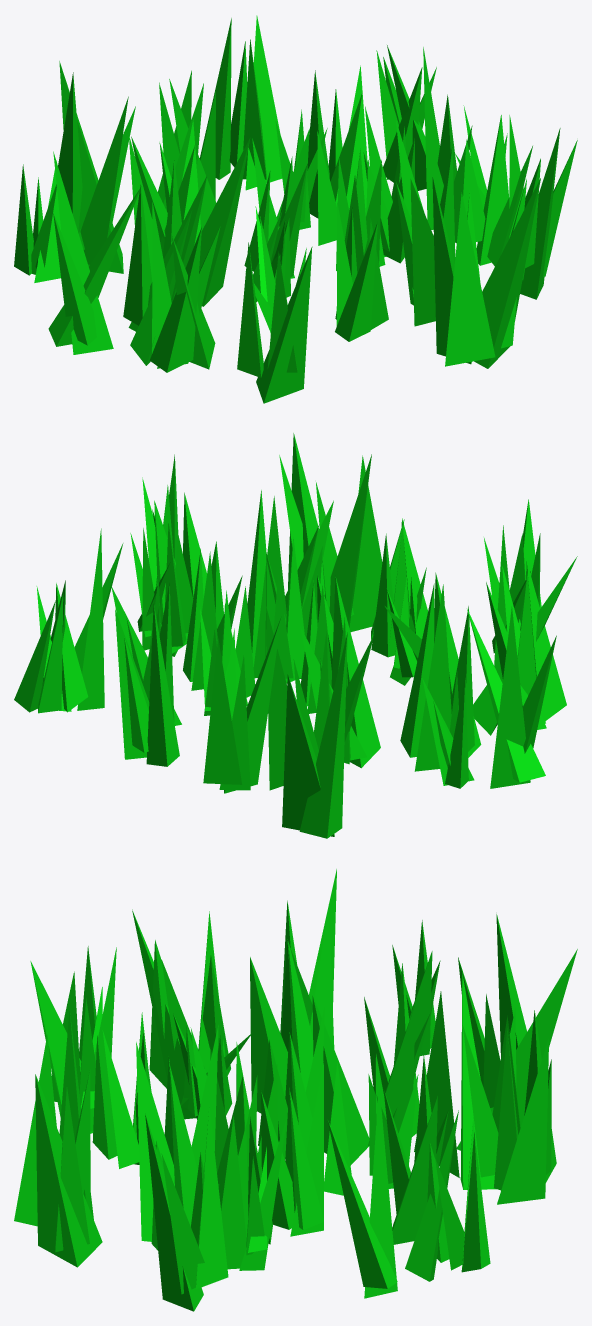
Rendered from relva2.fbx.
The picture shows the model from 3 angles, top to bottom: view 1: azimuth 30°, elevation 25°; view 2: azimuth 150°, elevation 25°; view 3: azimuth 270°, elevation 25°; orthographic projection. The views are drawn at different scales.
Parts seen in each view (by area): view 1: Cone.030, Cone.034, Cone.058, Cone.061, Cone.074, Cone.087, Cone.007, Cone.090, Cone.075, Cone.029, Cone.010, Cone.072 (+66 smaller); view 2: Cone.004, Cone.005, Cone.075, Cone.021, Cone.089, Cone.068, Cone.030, Cone.074, Cone.035, Cone.029, Cone.020, Cone.071 (+58 smaller); view 3: Cone.034, Cone.090, Cone.093, Cone.008, Cone.096, Cone.087, Cone.069, Cone.074, Cone.013, Cone.042, Cone.035, Cone.019 (+61 smaller).
Part boxes in pixels (x1=…): Cone.030: x1=445, y1=192, x2=495, y2=366; Cone.034: x1=474, y1=178, x2=540, y2=368; Cone.058: x1=256, y1=246, x2=312, y2=403; Cone.061: x1=149, y1=227, x2=201, y2=372; Cone.074: x1=199, y1=137, x2=250, y2=306; Cone.087: x1=410, y1=179, x2=435, y2=326; Cone.007: x1=80, y1=96, x2=128, y2=264; Cone.090: x1=245, y1=15, x2=282, y2=190; Cone.075: x1=53, y1=151, x2=113, y2=354; Cone.029: x1=432, y1=177, x2=471, y2=364; Cone.010: x1=335, y1=221, x2=377, y2=341; Cone.072: x1=48, y1=186, x2=141, y2=346; Cone.004: x1=299, y1=632, x2=347, y2=838; Cone.005: x1=282, y1=674, x2=334, y2=836; Cone.075: x1=490, y1=606, x2=530, y2=788; Cone.021: x1=203, y1=638, x2=242, y2=784; Cone.089: x1=146, y1=603, x2=179, y2=766; Cone.068: x1=414, y1=584, x2=451, y2=771; Cone.030: x1=349, y1=455, x2=382, y2=632; Cone.074: x1=331, y1=575, x2=380, y2=768; Cone.035: x1=77, y1=528, x2=104, y2=710; Cone.029: x1=324, y1=454, x2=371, y2=627; Cone.020: x1=224, y1=615, x2=281, y2=793; Cone.071: x1=400, y1=583, x2=434, y2=757; Cone.034: x1=35, y1=1074, x2=102, y2=1267; Cone.090: x1=497, y1=1037, x2=549, y2=1204; Cone.093: x1=145, y1=1114, x2=203, y2=1311; Cone.008: x1=327, y1=1119, x2=397, y2=1288; Cone.096: x1=196, y1=1105, x2=228, y2=1289; Cone.087: x1=136, y1=1042, x2=174, y2=1241; Cone.069: x1=250, y1=957, x2=287, y2=1113; Cone.074: x1=312, y1=995, x2=369, y2=1165; Cone.013: x1=218, y1=1116, x2=246, y2=1269; Cone.042: x1=392, y1=1096, x2=437, y2=1244; Cone.035: x1=364, y1=1082, x2=397, y2=1298; Cone.019: x1=414, y1=991, x2=459, y2=1177.
Bounding box in the file's own units: 616 × 254 × 577.
